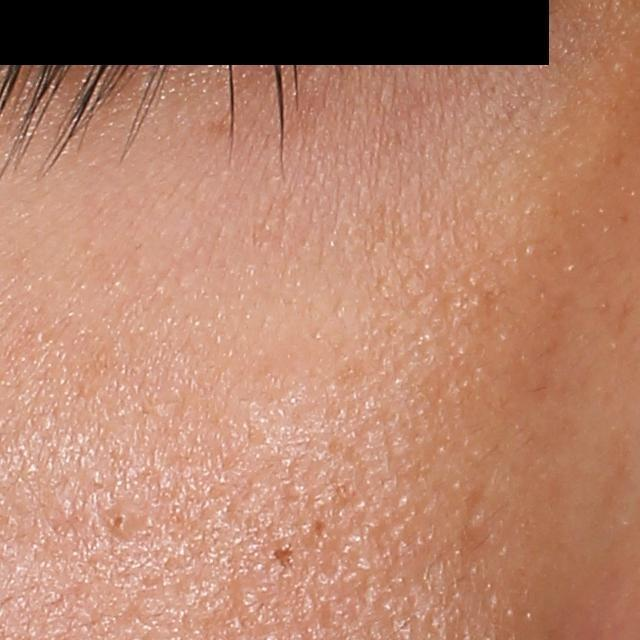comedo: (102, 508, 133, 541)
melasma: (189, 113, 239, 144)
